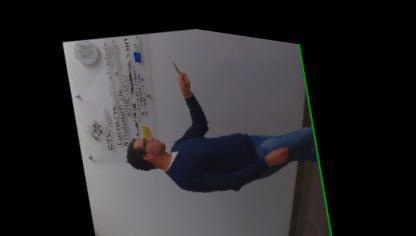knife: (168, 49, 194, 84)
